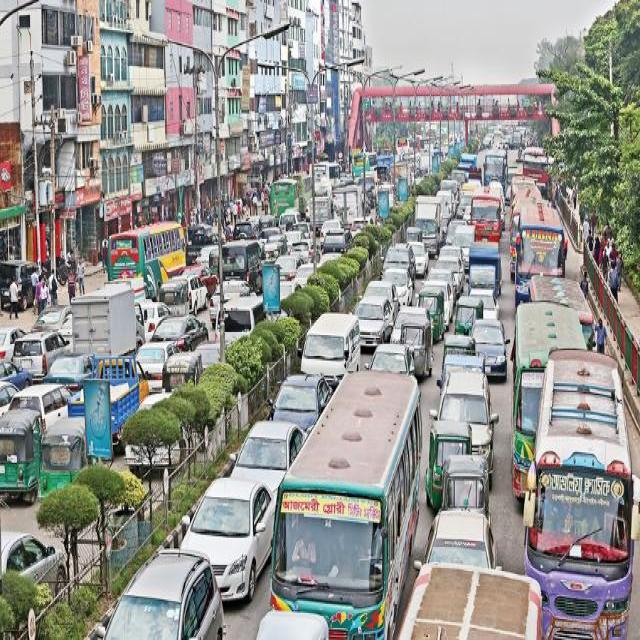bus: (276, 372, 424, 606), (537, 348, 633, 636), (509, 298, 558, 507), (406, 560, 540, 636), (106, 219, 184, 271), (518, 204, 562, 275), (530, 274, 580, 303), (474, 187, 500, 238), (270, 178, 296, 208), (483, 150, 505, 179), (522, 150, 546, 176), (508, 210, 516, 276), (313, 160, 339, 178), (352, 150, 374, 164), (512, 188, 540, 198), (396, 135, 412, 152), (298, 175, 310, 196), (511, 174, 533, 182), (512, 182, 536, 188), (512, 129, 520, 140), (430, 127, 434, 133)
car: (178, 473, 272, 553), (416, 503, 508, 562), (1, 528, 65, 594), (140, 389, 187, 460), (227, 416, 291, 464), (267, 370, 323, 417), (484, 316, 510, 372), (359, 293, 386, 341), (364, 341, 410, 368), (19, 328, 53, 363), (162, 312, 204, 340), (21, 381, 67, 406), (52, 351, 86, 376), (146, 339, 162, 388), (30, 304, 62, 324), (3, 358, 30, 381), (188, 276, 205, 312), (362, 277, 394, 294), (413, 239, 427, 275), (482, 288, 498, 316), (216, 277, 247, 291), (0, 324, 12, 360), (398, 267, 410, 301), (202, 339, 218, 364), (278, 252, 294, 276), (291, 238, 317, 252), (279, 278, 299, 296), (147, 298, 157, 333), (427, 267, 453, 280), (398, 303, 428, 313), (352, 214, 372, 229), (202, 263, 214, 287), (432, 253, 458, 264), (294, 261, 314, 274), (419, 280, 449, 288), (292, 219, 312, 230), (278, 209, 298, 219), (322, 216, 340, 227), (439, 243, 461, 250), (446, 218, 452, 243), (490, 138, 508, 146), (286, 228, 304, 236), (505, 182, 509, 207), (443, 205, 449, 214), (304, 203, 308, 216)
minivan: (0, 258, 32, 310), (439, 188, 451, 198)
motorbike: (222, 232, 232, 238), (516, 146, 520, 156)
pickup: (72, 286, 138, 348), (110, 353, 142, 404), (468, 240, 499, 286), (441, 347, 485, 368), (333, 184, 361, 217), (412, 192, 438, 224), (185, 232, 202, 258), (310, 196, 330, 217), (456, 152, 476, 165), (364, 174, 374, 200), (392, 162, 408, 176), (135, 275, 143, 299), (376, 154, 392, 163), (420, 152, 430, 162), (450, 168, 466, 174)
suv: (97, 546, 227, 636), (435, 370, 493, 420), (380, 240, 412, 264), (322, 229, 352, 250), (232, 218, 258, 236), (456, 191, 464, 216)
three wheelers -CNG-: (0, 407, 36, 502), (42, 420, 84, 492), (439, 452, 488, 511), (250, 606, 330, 636), (426, 417, 472, 450), (164, 348, 200, 384), (401, 317, 432, 344), (158, 276, 188, 301), (453, 292, 471, 333), (430, 289, 442, 336), (442, 333, 474, 346), (402, 225, 422, 239), (208, 248, 218, 269), (262, 240, 282, 250), (258, 213, 274, 224), (266, 233, 286, 240), (418, 164, 427, 174)
van: (298, 310, 359, 369), (220, 239, 262, 278), (216, 293, 260, 329)
